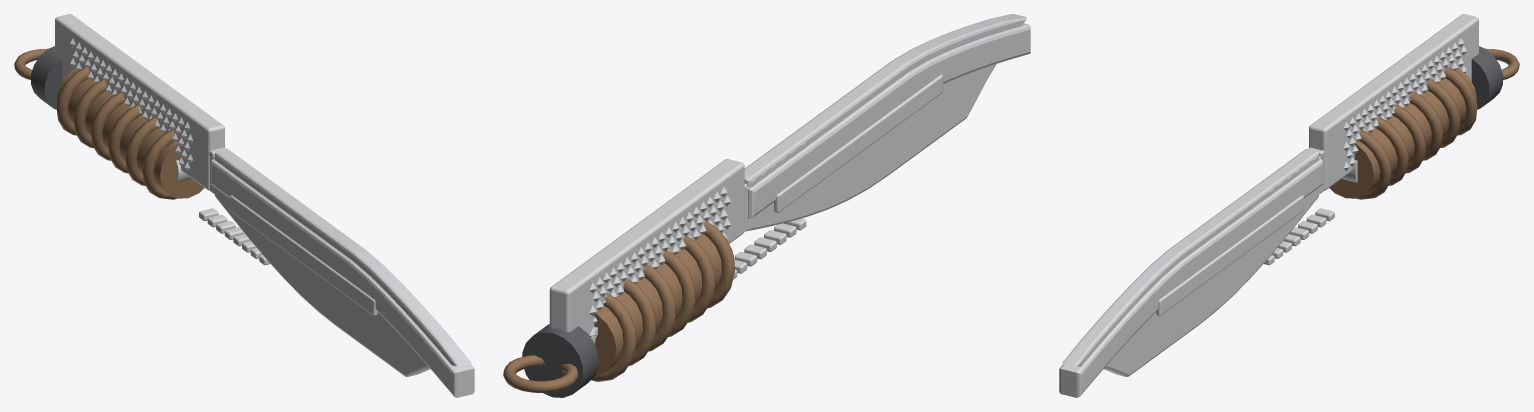
File: mega-weapon-pack-throwing-knife-b088e360__33415.glb
3 renders of one model, left to right at view 1: azimuth 30°, elevation 25°; view 2: azimuth 150°, elevation 25°; view 3: azimuth 330°, elevation 25°, orthographic. The views are drawn at different scales.
Visible parts, largest first — view 1: throwing-knife; view 2: throwing-knife; view 3: throwing-knife.
Boxes of the visible parts, x1,y1,x2,y2 form: throwing-knife: (14,14,474,397); throwing-knife: (503,14,1030,397); throwing-knife: (1059,14,1519,397).
Size of the model in its own units: 0.0246 by 0.0338 by 0.2528.
